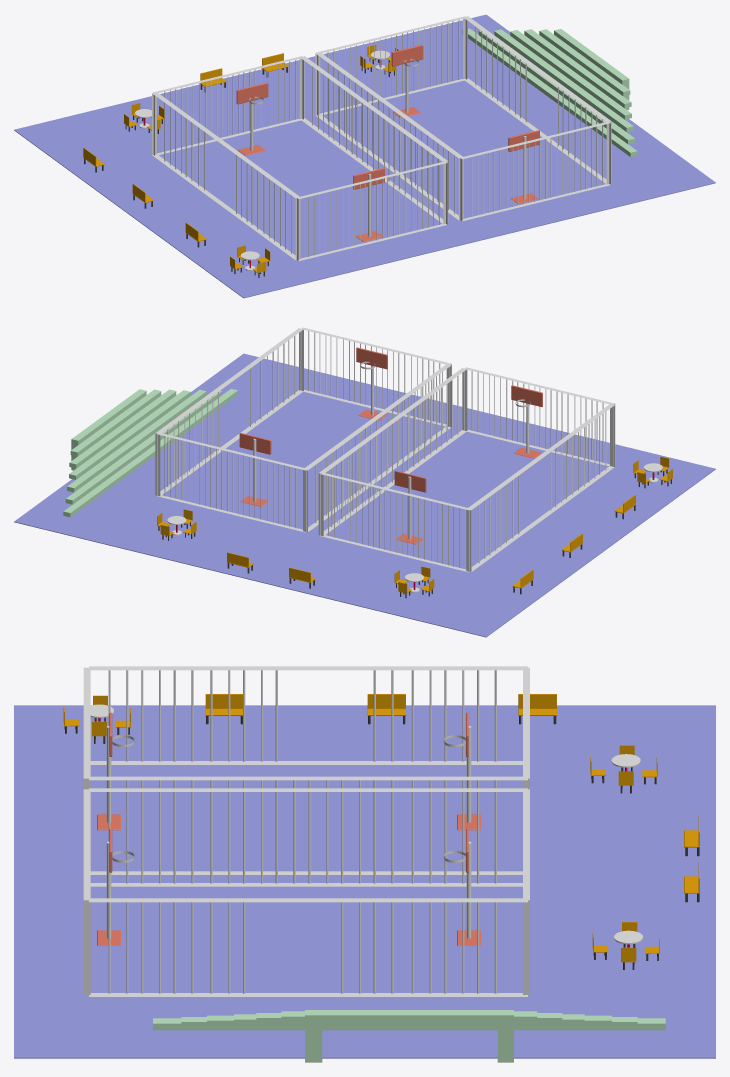
The model's file is 2nd_map.fbx.
3 renders of one model, top to bottom at view 1: azimuth 30°, elevation 25°; view 2: azimuth 150°, elevation 25°; view 3: azimuth 270°, elevation 25°, orthographic. The views are drawn at different scales.
Visible parts, largest first — view 1: polySurface2, pCube19, polySurface45, polySurface95, polySurface170, polySurface120, polySurface145, polySurface20, polySurface70, polySurface195, pCube23, pCube24 (+2 smaller); view 2: polySurface2, pCube19, polySurface45, polySurface170, polySurface95, polySurface120, polySurface70, polySurface20, polySurface195, polySurface145, pCube20, pCube24 (+2 smaller); view 3: polySurface2, pCube19, polySurface170, polySurface45, polySurface95, polySurface120, polySurface145, polySurface195, pCube4, pCube20, pCube24, pCube23 (+5 smaller).
Boxes of the visible parts, x1,y1,x2,y2 form: polySurface2: (14, 14, 715, 298); pCube19: (462, 28, 637, 156); polySurface45: (152, 92, 300, 260); polySurface95: (299, 56, 448, 224); polySurface170: (463, 16, 611, 184); polySurface120: (315, 52, 463, 220); polySurface145: (460, 121, 610, 221); polySurface20: (297, 161, 447, 260); polySurface70: (153, 56, 303, 155); polySurface195: (316, 16, 467, 115); pCube23: (236, 82, 268, 155); pCube24: (391, 44, 423, 117); polySurface2: (14, 353, 715, 637); pCube19: (63, 388, 237, 517); polySurface45: (466, 404, 614, 572); polySurface170: (155, 328, 303, 496); polySurface95: (318, 368, 467, 536); polySurface120: (303, 364, 451, 532); polySurface70: (320, 472, 471, 572); polySurface20: (464, 367, 615, 466); polySurface195: (157, 432, 307, 532); polySurface145: (300, 327, 451, 426); pCube20: (511, 385, 542, 458); pCube24: (239, 433, 271, 506); polySurface2: (14, 705, 715, 1058); pCube19: (153, 1010, 665, 1062); polySurface170: (89, 898, 527, 996); polySurface45: (89, 666, 527, 764); polySurface95: (89, 776, 527, 874); polySurface120: (89, 788, 527, 886); polySurface145: (83, 789, 90, 994); polySurface195: (523, 789, 529, 994); pCube4: (97, 828, 134, 945); pCube20: (97, 712, 134, 830); pCube24: (443, 828, 480, 945); pCube23: (443, 712, 480, 830).
Size of the model in its own units: 325 by 42.51 by 269.
